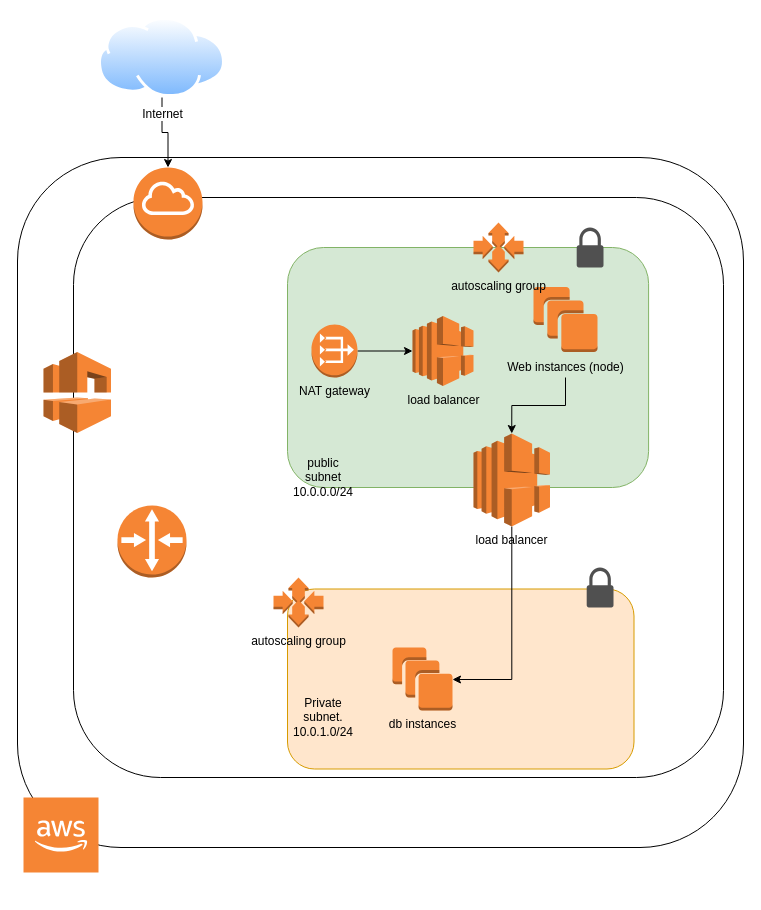
Image size: 761x910. Some labels were removed from this diagram. The shapes that lost their labels are listed below. From the top down, each one's centre as x and y in pixels, then its label:
the point at 167,203: internet gateway
the point at 76,392: VPC 10.0.0.0/16
the point at 151,541: router
the point at 60,834: Region
